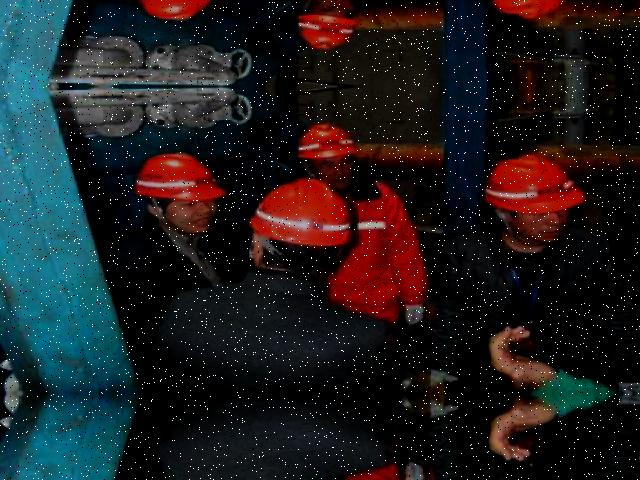Helmet: (246, 172, 362, 255), (474, 150, 599, 227), (129, 146, 233, 212), (289, 118, 368, 169)
